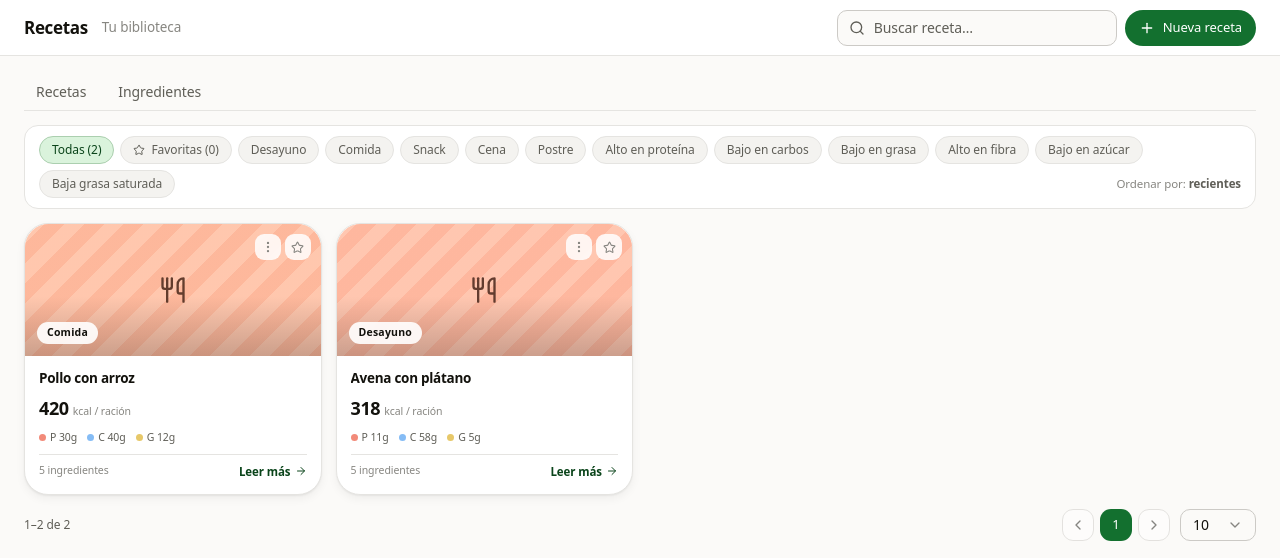
it: RecetasPage › shows the no-results empty state when the search matches nothing
In the field with placeholder "Buscar receta…": [977, 28] box [837,10,1117,46], type "zzz"
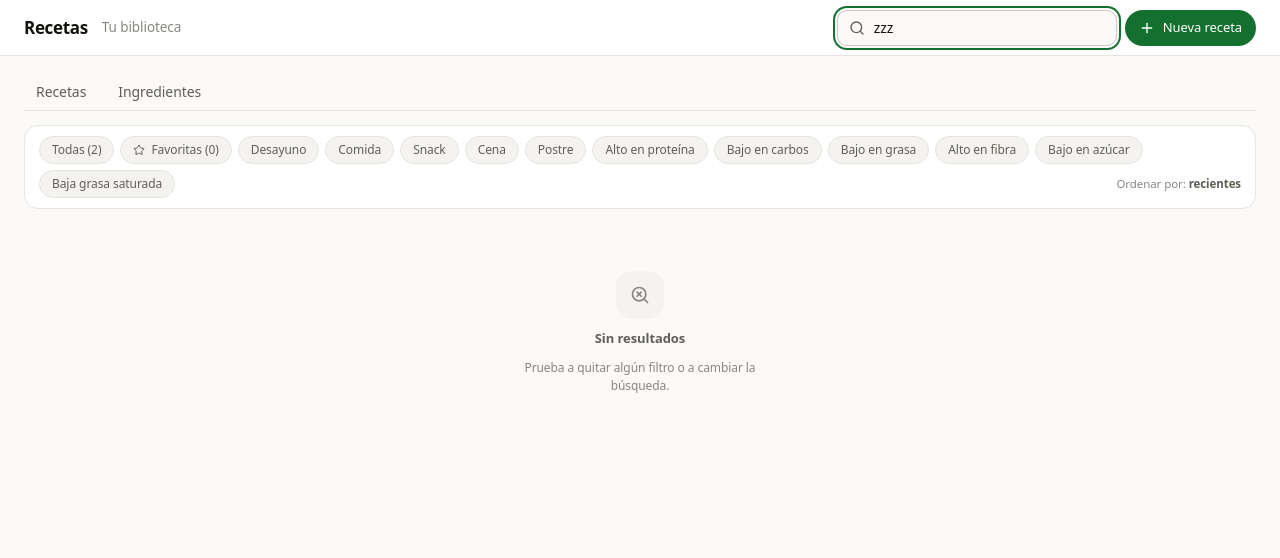
Check: the text "Sin resultados" is shown, box [595,329,685,348]
Check: the link "Pollo con arroz" is gone
